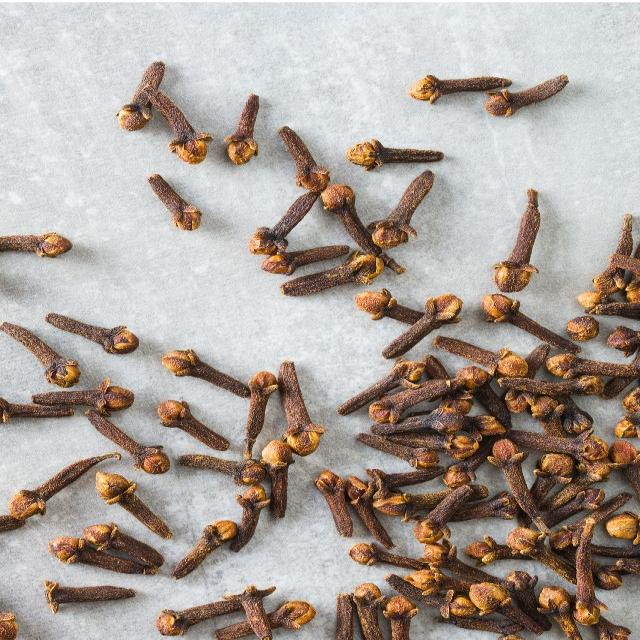clove: (312, 336, 640, 640), (47, 361, 327, 580), (0, 378, 170, 474), (153, 580, 318, 640)
